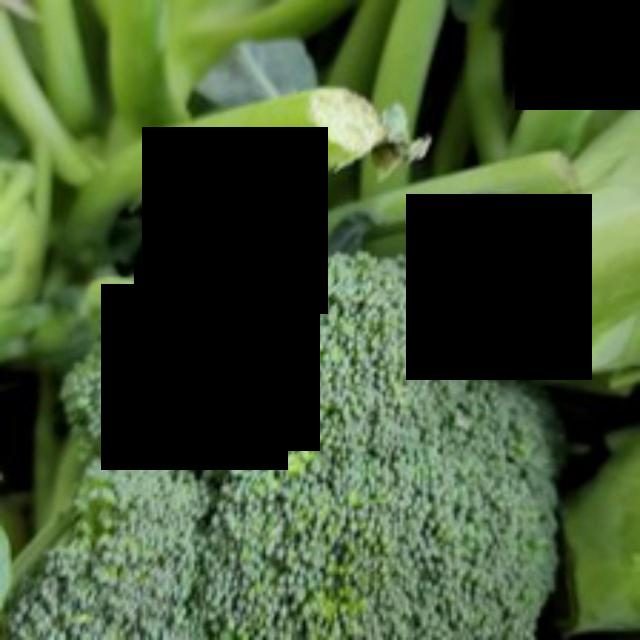broccoli: (31, 237, 571, 637)
